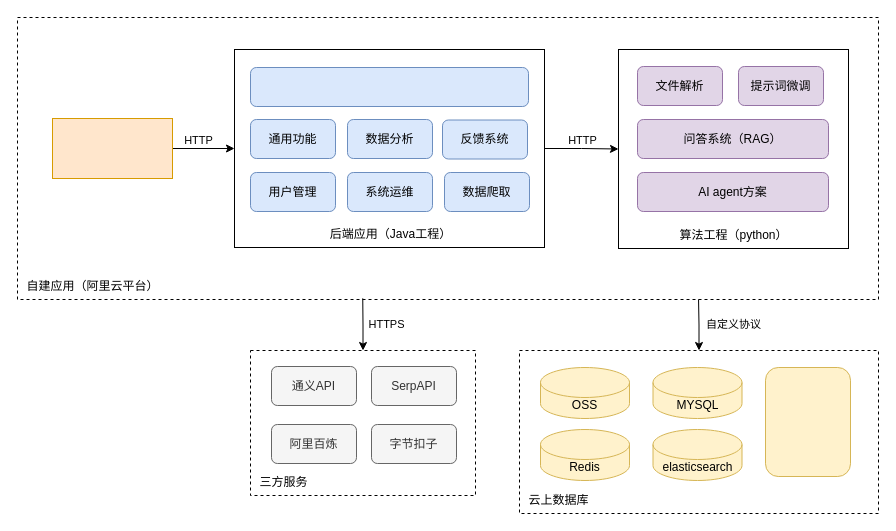
Image size: 896x531. Some labels were removed from this diagram. Here are the shapes that lost their labels. From the top down, the centre of each, then its label:
pixel 389 86: API网关
pixel 112 148: 前端应用 (Next.js + ReactJS)
pixel 807 421: 向量数据库
